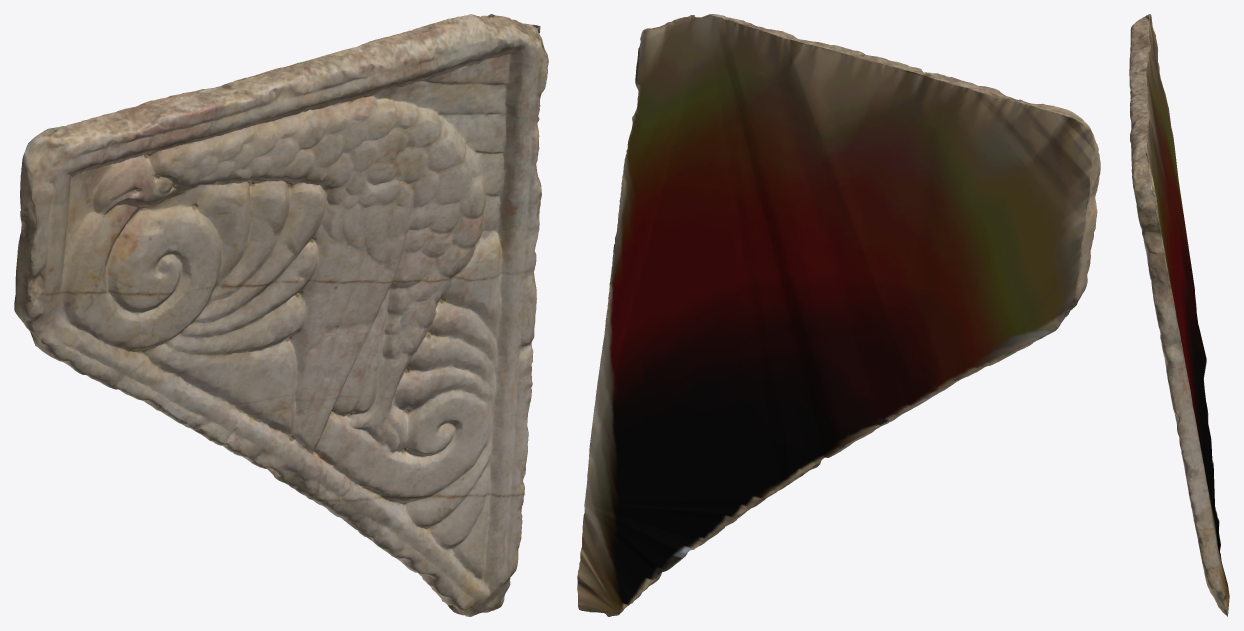
File: preview.glb
3 views of the same model, side by side, from view 1: azimuth 30°, elevation 25°; view 2: azimuth 150°, elevation 25°; view 3: azimuth 270°, elevation 25° (orthographic). The views are drawn at different scales.
Parts seen in each view (by area): view 1: Polygonal_Model_1_ADVIMG_25_120_1007_SpandrelWithABird_Copy_; view 2: Polygonal_Model_1_ADVIMG_25_120_1007_SpandrelWithABird_Copy_; view 3: Polygonal_Model_1_ADVIMG_25_120_1007_SpandrelWithABird_Copy_.
Part boxes in pixels (x1,y1,x2,y2): Polygonal_Model_1_ADVIMG_25_120_1007_SpandrelWithABird_Copy_: (14, 14, 548, 616); Polygonal_Model_1_ADVIMG_25_120_1007_SpandrelWithABird_Copy_: (577, 14, 1100, 616); Polygonal_Model_1_ADVIMG_25_120_1007_SpandrelWithABird_Copy_: (1129, 14, 1229, 616).
Bounding box in the file's own units: 0.3789 × 0.4423 × 0.0904.
1 material, 1 textured.
